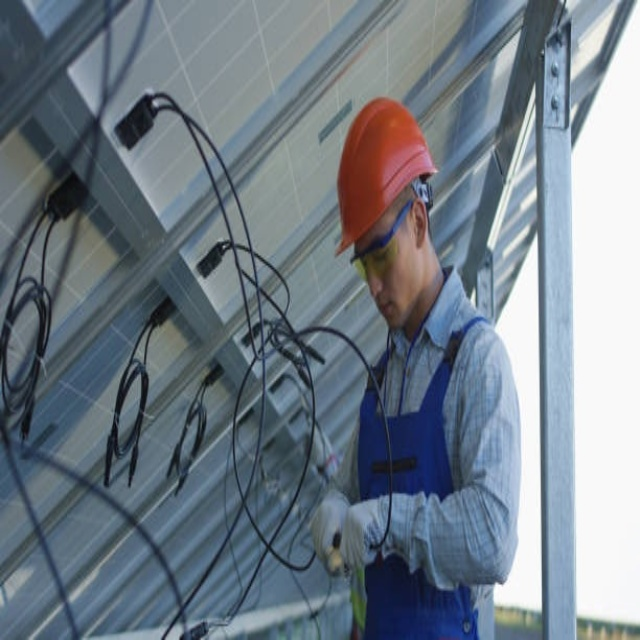Gafas: (346, 192, 414, 281)
Guantes: (338, 494, 398, 578), (311, 480, 345, 569)
Sin_mascara: (372, 295, 398, 331)
